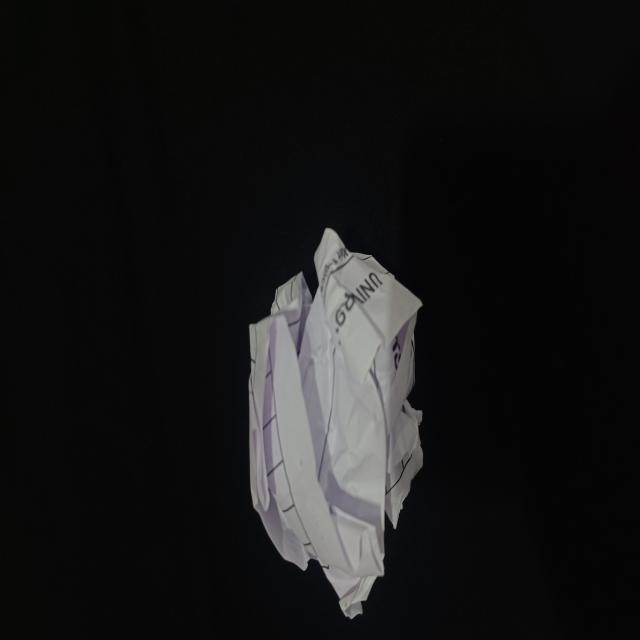PaperBall: (246, 231, 424, 618), (316, 231, 418, 384)
